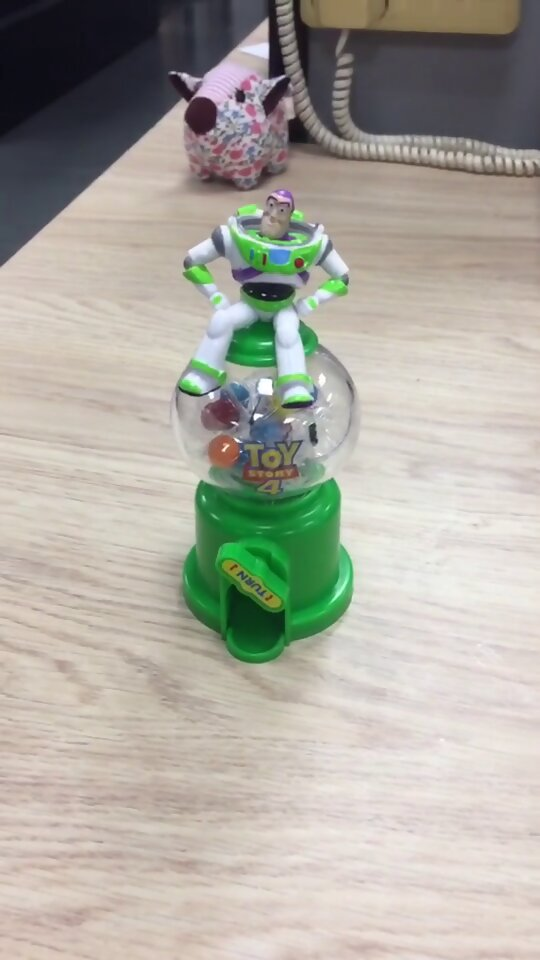buzz: (171, 180, 359, 666)
